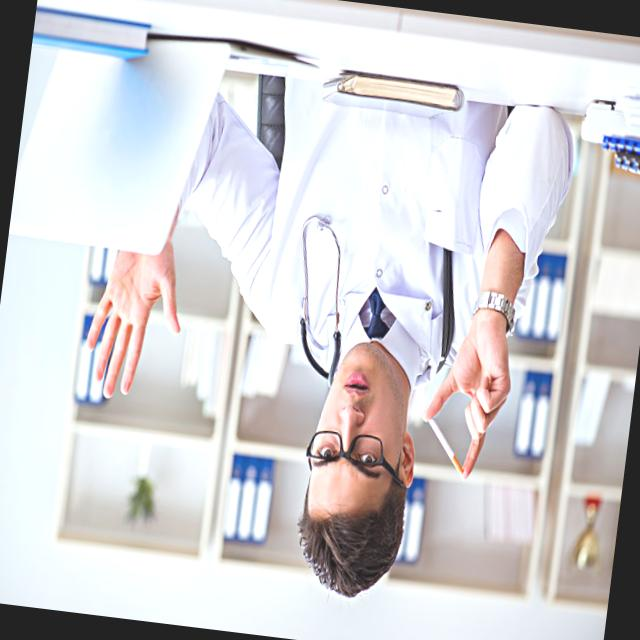smoke: (422, 417, 472, 480)
